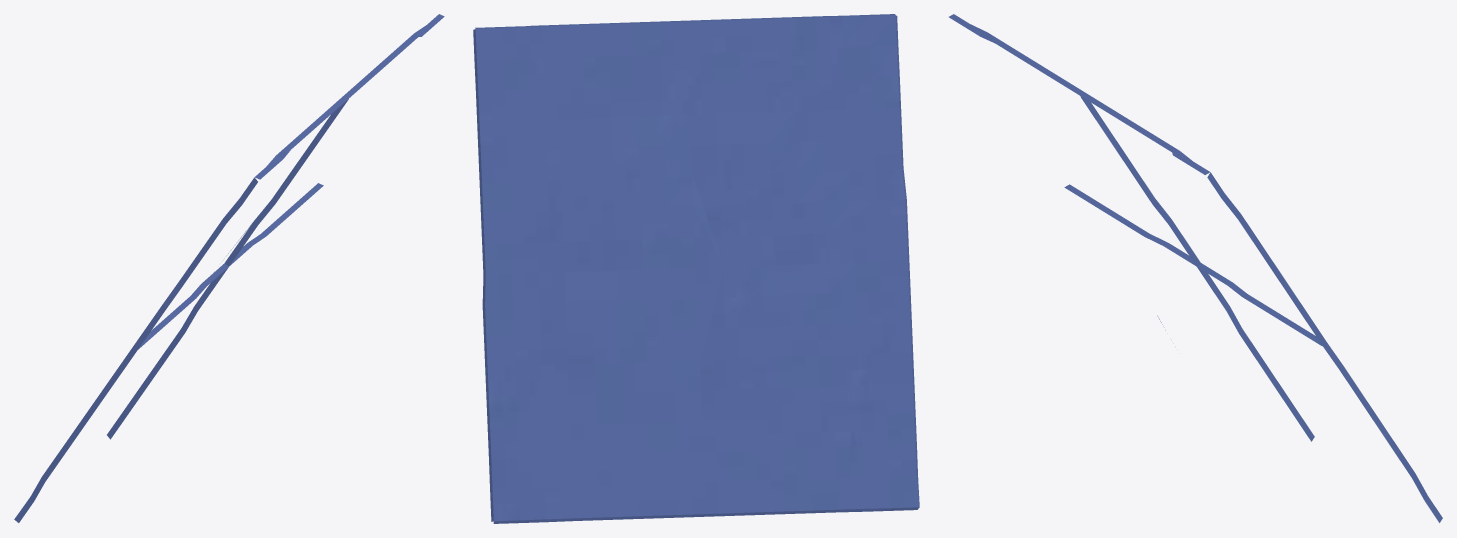
3 views of the same model, side by side, from view 1: azimuth 30°, elevation 25°; view 2: azimuth 150°, elevation 25°; view 3: azimuth 270°, elevation 25° (orthographic). The views are drawn at different scales.
Size of the model in its own units: 158816 by 135303 by 145188.
Materials: 1 (1 with a texture image).
